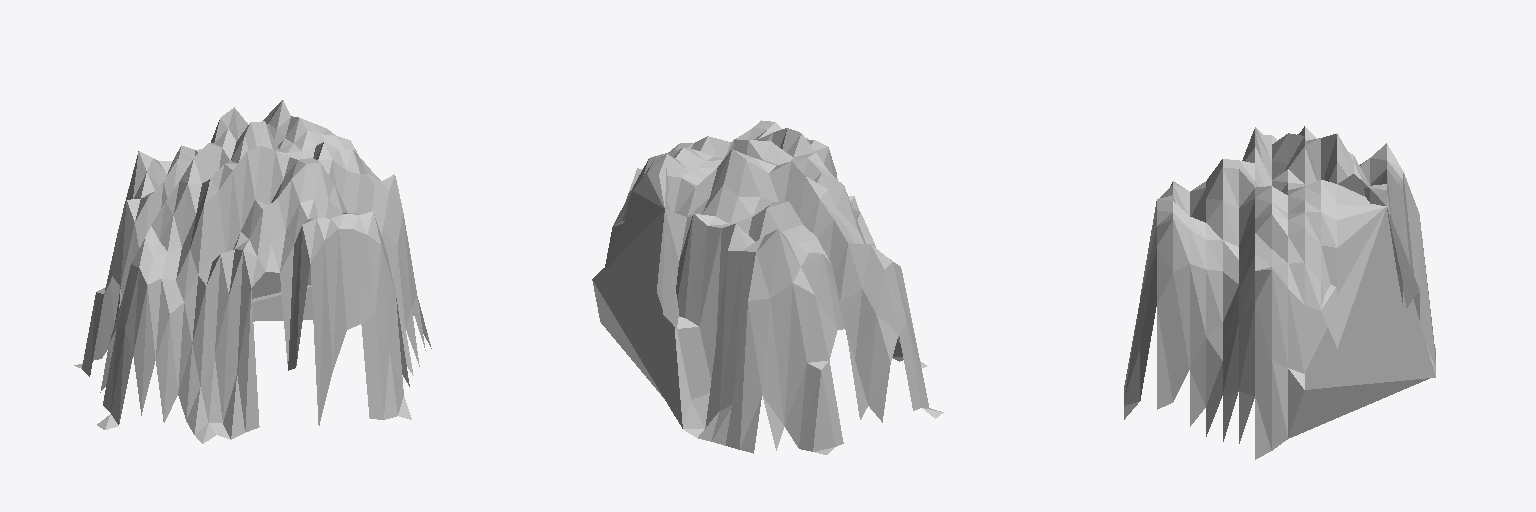
Rendered from tree_52.obj.
3 renders of one model, left to right at view 1: azimuth 30°, elevation 25°; view 2: azimuth 150°, elevation 25°; view 3: azimuth 270°, elevation 25°, orthographic.
Parts seen in each view (by area): view 1: tree_52.001; view 2: tree_52.001; view 3: tree_52.001.
Part boxes in pixels (x1,y1,x2,y2): tree_52.001: (74, 100, 431, 443); tree_52.001: (592, 120, 943, 454); tree_52.001: (1124, 126, 1435, 459).
Bounding box in the file's own units: 23 × 16.95 × 19.